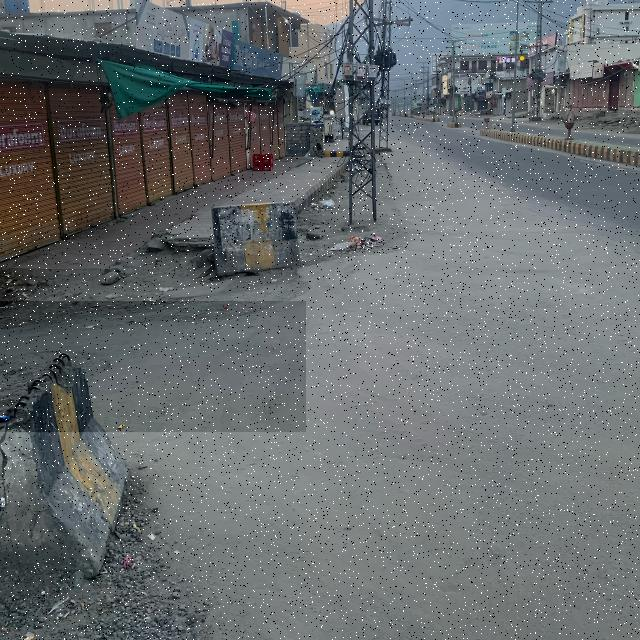left: (0, 301, 306, 432)
